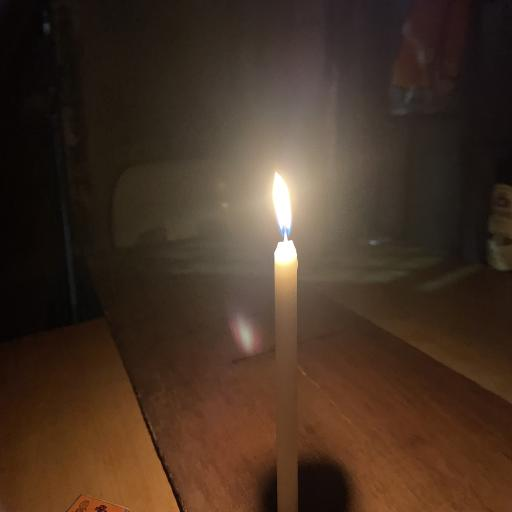fire: (245, 152, 319, 263)
